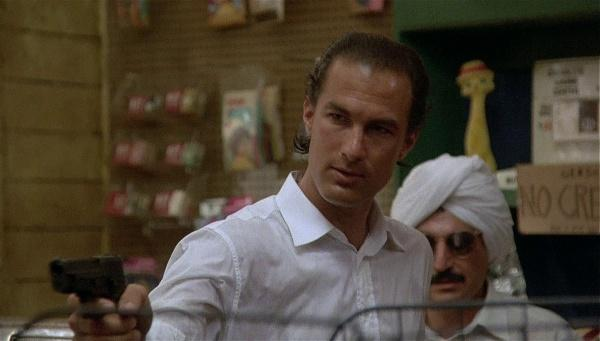Gun: (50, 256, 128, 314)
